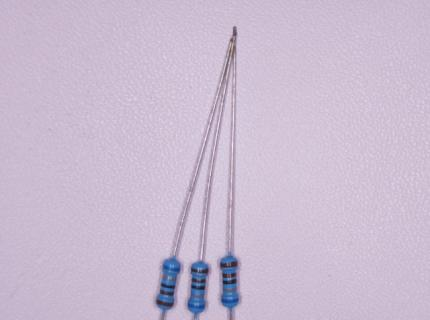Black band: (161, 283, 175, 289), (223, 278, 237, 284), (192, 285, 205, 290)
Blue band: (163, 264, 180, 271), (188, 303, 205, 308), (222, 298, 238, 303)
Brown band: (157, 299, 174, 307), (220, 261, 237, 268), (191, 267, 208, 273), (160, 290, 174, 296), (192, 278, 205, 283), (223, 273, 236, 277)
Grey band: (162, 275, 176, 281), (223, 288, 237, 292), (191, 293, 204, 297)
